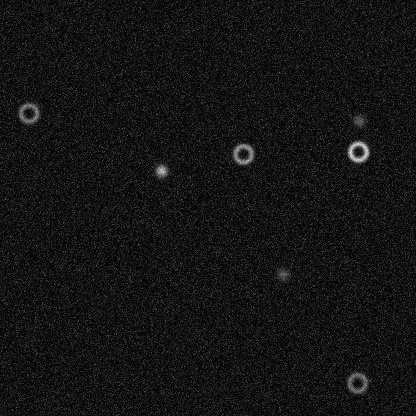Ring: (16, 101, 40, 125), (231, 141, 255, 165), (346, 139, 370, 163), (345, 370, 369, 394)
Spot: (153, 162, 169, 178), (274, 266, 290, 282), (350, 112, 366, 128)
